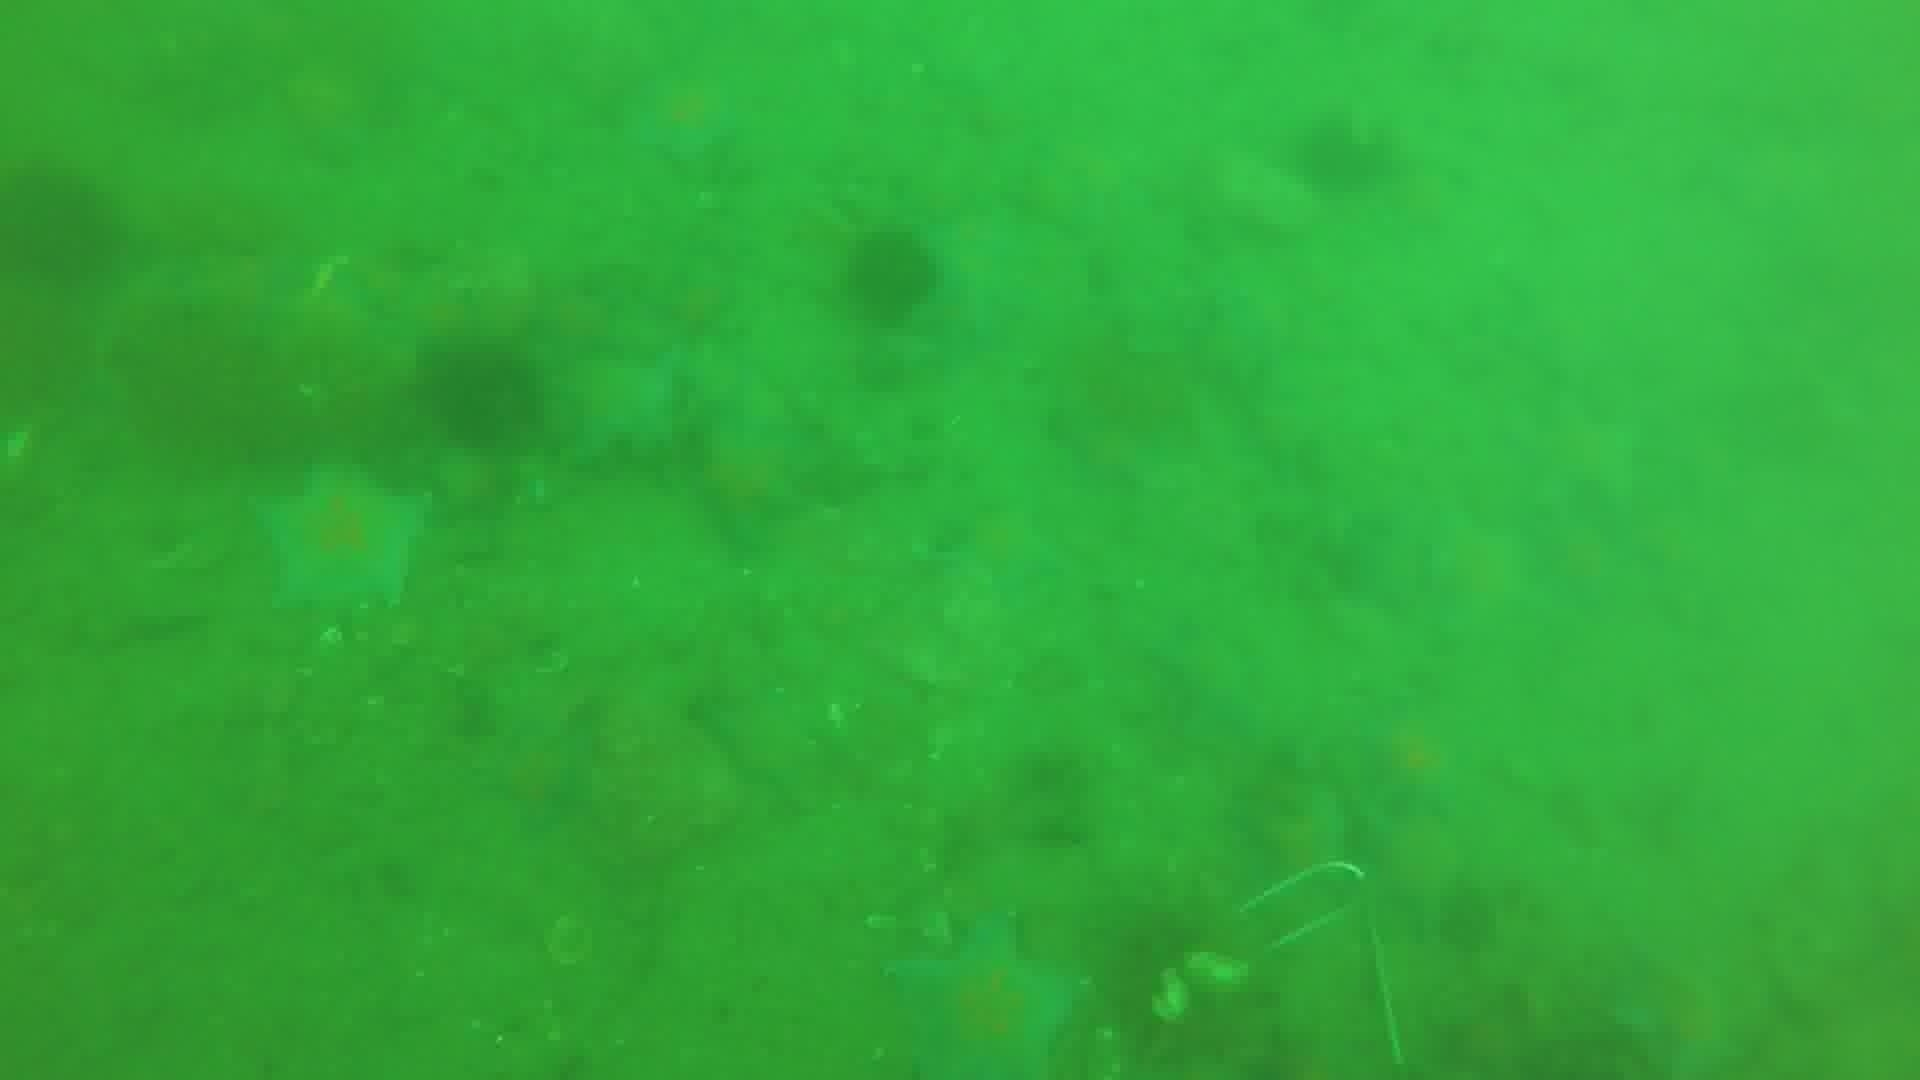echinus: (112, 298, 301, 468), (1, 156, 124, 289), (415, 338, 546, 454), (839, 225, 943, 328), (1288, 112, 1396, 200), (1431, 884, 1503, 959)
starfish: (885, 913, 1083, 1080), (251, 462, 433, 620), (678, 404, 822, 553), (1600, 952, 1753, 1080), (1506, 396, 1650, 527), (1139, 621, 1280, 753), (692, 684, 831, 812), (476, 705, 609, 836), (545, 349, 686, 469), (1418, 514, 1542, 636), (1348, 705, 1472, 823), (620, 70, 746, 167), (945, 502, 1067, 600), (1048, 404, 1166, 495), (521, 281, 636, 371)
